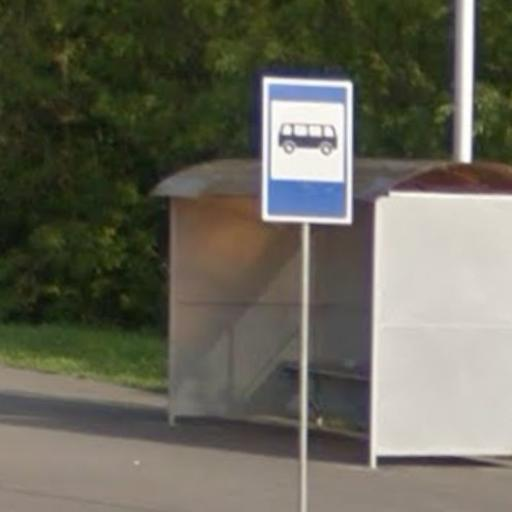traffic_sign: (260, 75, 354, 227)
